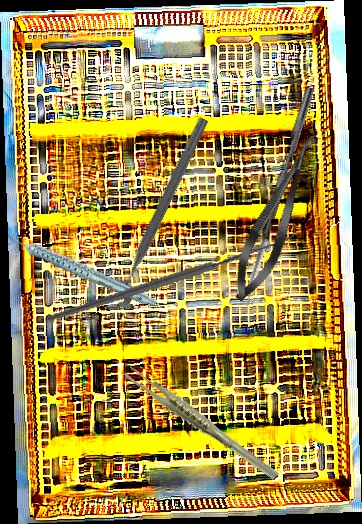Fixation Ring: (97, 109, 214, 310)
Handpiece: (5, 201, 159, 335)
Hook Surgical: (47, 177, 297, 368)
Micro Scissor: (222, 127, 331, 308)
Surgical Spoon: (238, 85, 315, 307)
Tissue Forceps: (121, 342, 281, 505)
